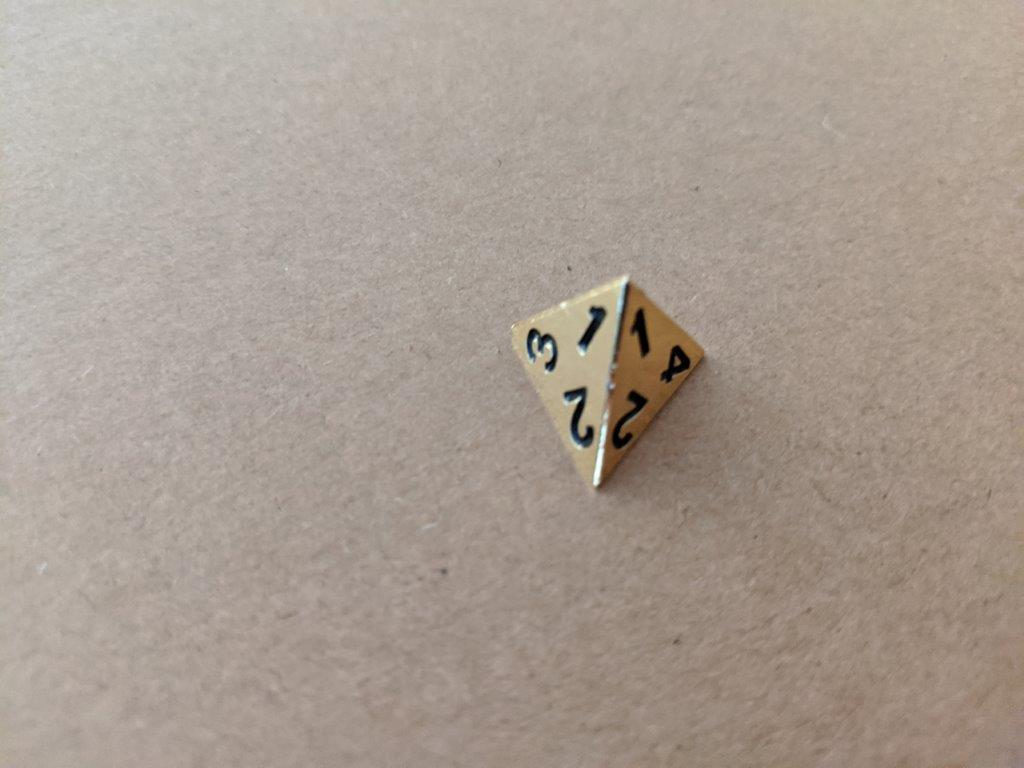d4-1: (495, 274, 712, 492)
